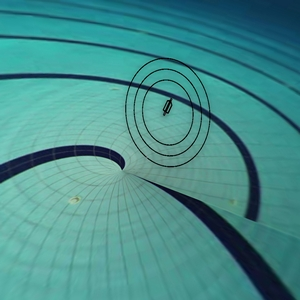circle: (104, 41, 221, 181)
submarine: (159, 93, 180, 120)
